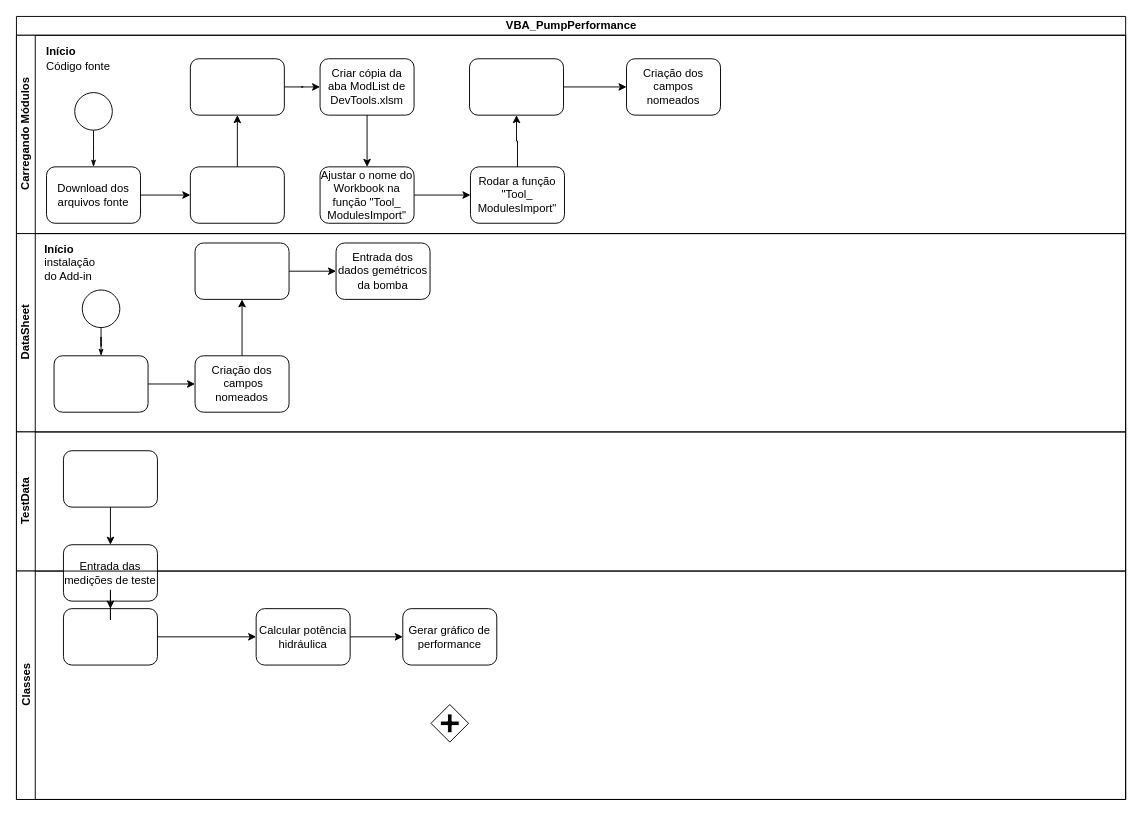
Image size: 1142x816. Some labels were removed from this diagram. The centre of each missing label's shape, as x and y in pixels:
Calcular Head: (110,636)
Copiar todas as abas de "Input Interfaces.xls": (516,86)
Criação da interface de entrada dos dados de projeto: (100,383)
Criação de um novo Excel Workbook: (236,194)
Entrada dos dados de projeto: (241,270)
Entrada dos dados do aparato de testes: (110,478)
Salvar como "xlsm" Workbook: (236,86)
